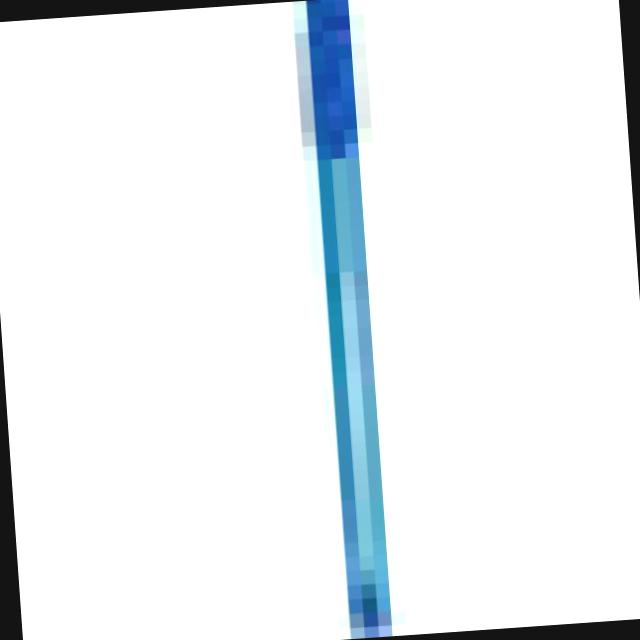Pen - Non Recyclable: (305, 0, 405, 627)
